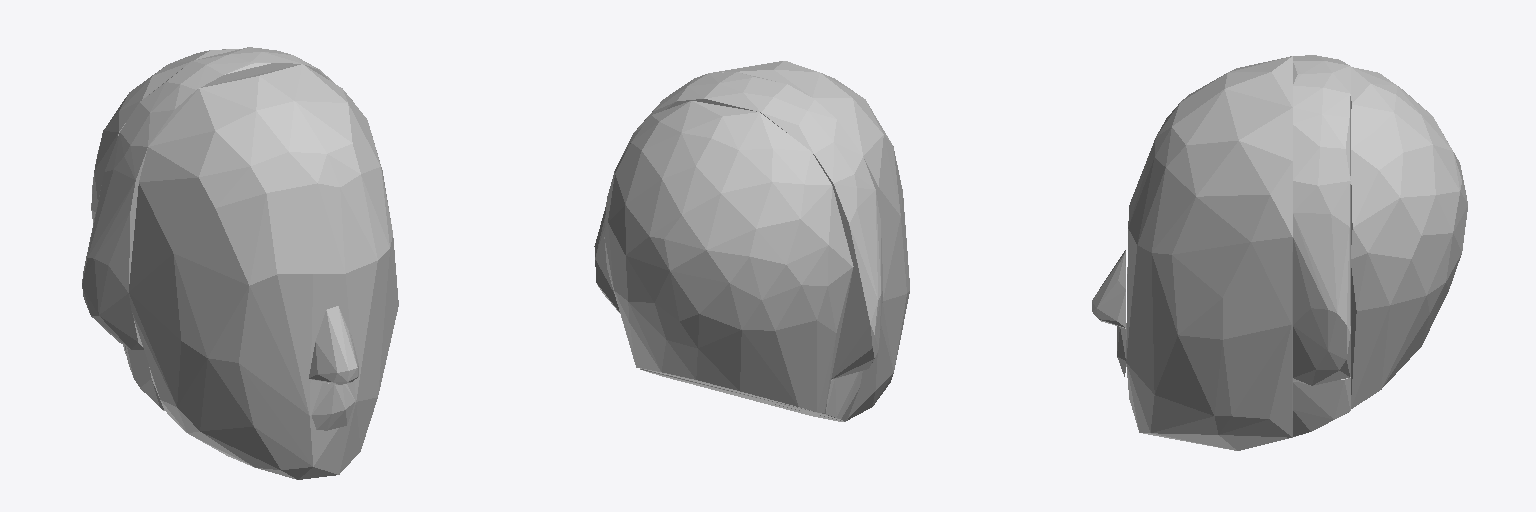
Rendered from head_mesh_male_new_vhacd.obj.
3 renders of one model, left to right at view 1: azimuth 30°, elevation 25°; view 2: azimuth 150°, elevation 25°; view 3: azimuth 270°, elevation 25°, orthographic.
Visible parts, largest first — view 1: convex_1, convex_3, convex_5, convex_0, convex_4, convex_2; view 2: convex_0, convex_3, convex_1, convex_2; view 3: convex_1, convex_0, convex_3, convex_2, convex_5.
Part boxes in pixels (bbox=[...]): convex_1: bbox=[129, 64, 398, 479]; convex_3: bbox=[82, 47, 352, 349]; convex_5: bbox=[309, 306, 358, 384]; convex_0: bbox=[91, 48, 261, 355]; convex_4: bbox=[311, 383, 354, 430]; convex_2: bbox=[126, 347, 165, 410]; convex_0: bbox=[604, 101, 853, 412]; convex_3: bbox=[594, 72, 882, 379]; convex_1: bbox=[685, 61, 909, 421]; convex_2: bbox=[640, 369, 862, 420]; convex_1: bbox=[1126, 56, 1292, 450]; convex_0: bbox=[1351, 67, 1467, 408]; convex_3: bbox=[1293, 55, 1350, 385]; convex_2: bbox=[1293, 377, 1350, 436]; convex_5: bbox=[1092, 250, 1125, 327].
Bounding box in the file's own units: 0.1881 × 0.2365 × 0.2188.